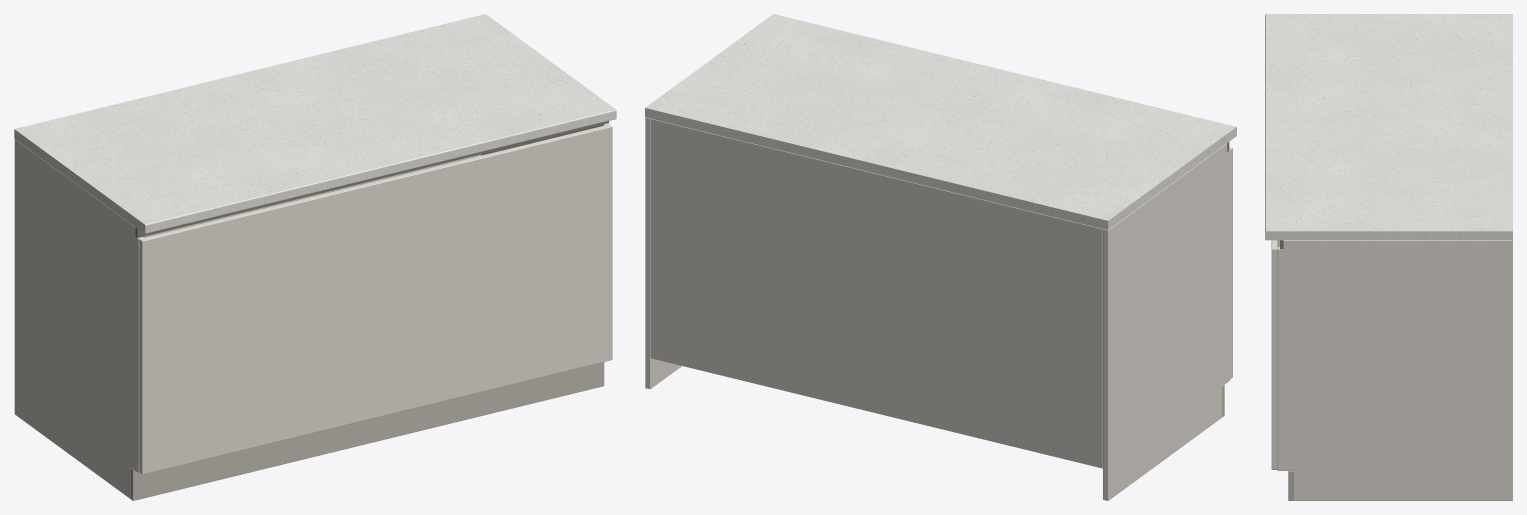
Rendered from kitchen_cabinet.glb.
The picture shows the model from 3 angles, left to right: view 1: azimuth 30°, elevation 25°; view 2: azimuth 150°, elevation 25°; view 3: azimuth 270°, elevation 25°; orthographic projection. The views are drawn at different scales.
Visible parts, largest first — view 1: kitchen_cabinet_fronts, kitchen_cabinet_countertop, kitchen_cabinet_carcass, kitchen_cabinet_gola; view 2: kitchen_cabinet_carcass, kitchen_cabinet_countertop, kitchen_cabinet_fronts; view 3: kitchen_cabinet_carcass, kitchen_cabinet_countertop, kitchen_cabinet_fronts.
Part boxes in pixels (x1,y1,x2,y2): kitchen_cabinet_fronts: (139,124,612,474); kitchen_cabinet_countertop: (14,14,616,233); kitchen_cabinet_carcass: (14,123,609,500); kitchen_cabinet_gola: (135,121,608,237); kitchen_cabinet_carcass: (645,117,1230,500); kitchen_cabinet_countertop: (645,14,1236,229); kitchen_cabinet_fronts: (1229,147,1232,378); kitchen_cabinet_carcass: (1277,240,1512,500); kitchen_cabinet_countertop: (1265,14,1512,240); kitchen_cabinet_fronts: (1271,240,1277,469).
Size of the model in its own units: 1.56 by 0.9 by 0.749.
5 materials, 1 textured.
